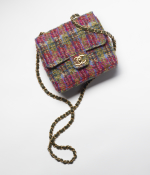channel: (28, 18, 118, 94), (69, 52, 97, 73), (36, 46, 44, 94)
